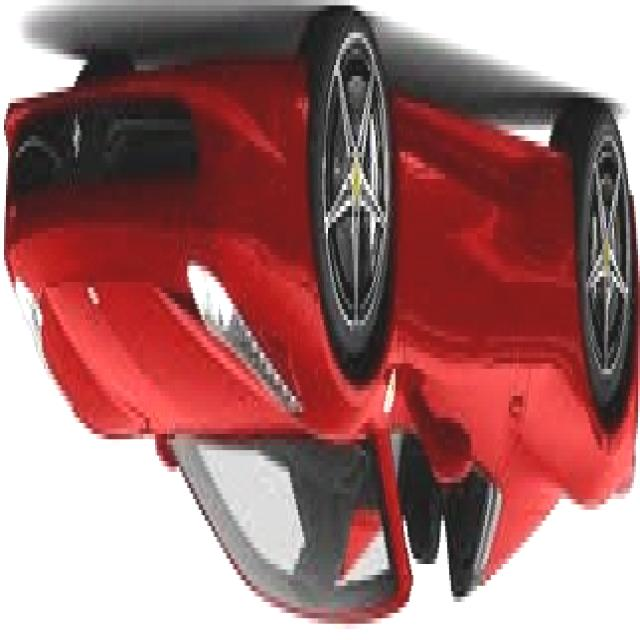red: (15, 17, 640, 612)
